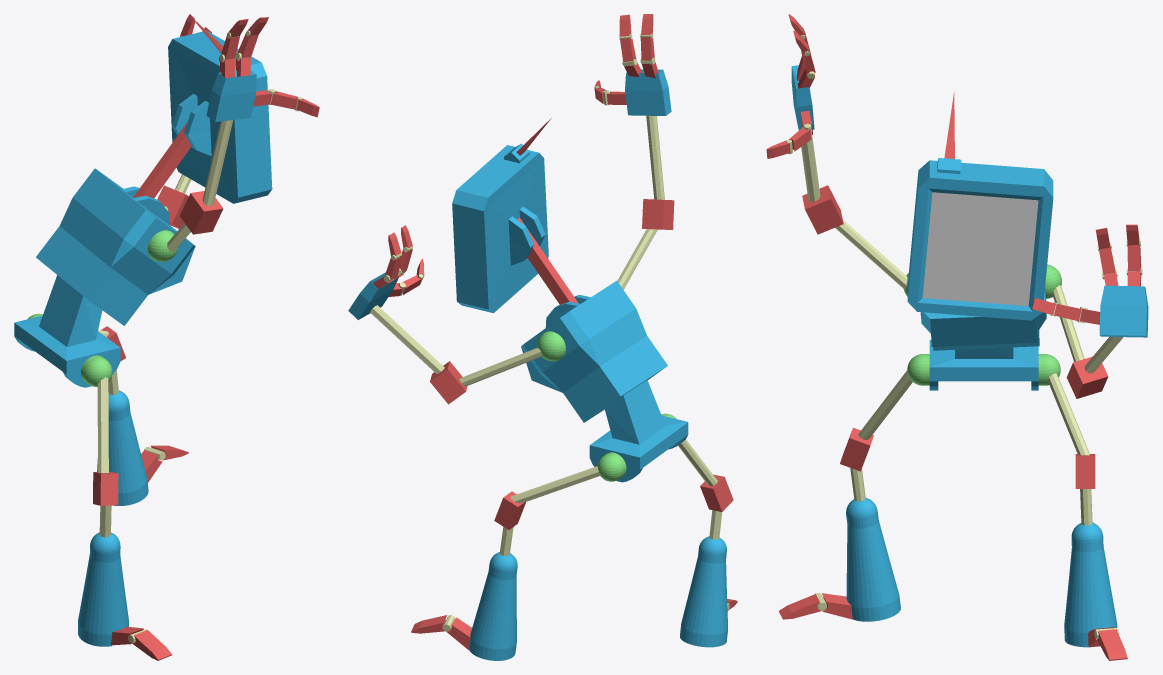
Rendered from Robot.dae.
The picture shows the model from 3 angles, left to right: view 1: azimuth 30°, elevation 25°; view 2: azimuth 150°, elevation 25°; view 3: azimuth 270°, elevation 25°; orthographic projection. The views are drawn at different scales.
Visible parts, largest first — view 1: Chest, Head, Hips.001, Hips.002, Right Elbow, Right Knee.002, Neck, Left Knee\.021, Right upperleg, Left forearm, Left Knee\.019; view 2: Chest, Head, Hips.001, Hips.002, Left forearm, Right Elbow, Right Knee.002, Neck, Left Knee\.019, Right Knee.001, Left upperleg, Left upperarm (+2 smaller); view 3: Head, Chest, Hips.001, Hips.002, Right Knee.001, Right Elbow, Left forearm, Left Knee\.021, Right upperarm, Left upperleg, Right upperleg, Left Knee\.019 (+2 smaller).
Part boxes in pixels (box(x1,y1,x2,y2)): Chest: box(14, 168, 195, 387); Head: box(168, 16, 272, 203); Hips.001: box(78, 471, 128, 646); Hips.002: box(97, 326, 148, 505); Right Elbow: box(180, 120, 233, 234); Right Knee.002: box(206, 70, 256, 122); Neck: box(133, 122, 191, 198); Left Knee\.021: box(111, 626, 171, 660); Right upperleg: box(97, 377, 108, 472); Left forearm: box(157, 174, 191, 228); Left Knee\.019: box(141, 445, 188, 482); Chest: box(521, 280, 688, 482); Head: box(452, 118, 551, 313); Hips.001: box(680, 474, 733, 647); Hips.002: box(469, 491, 525, 660); Left forearm: box(370, 305, 467, 404); Right Elbow: box(642, 115, 674, 229); Right Knee.002: box(625, 69, 671, 115); Neck: box(517, 217, 578, 304); Left Knee\.019: box(411, 615, 471, 649); Right Knee.001: box(348, 272, 398, 319); Left upperleg: box(510, 466, 599, 503); Left upperarm: box(459, 347, 542, 386); Head: box(907, 91, 1053, 320); Chest: box(904, 264, 1061, 390); Hips.001: box(840, 427, 900, 621); Hips.002: box(1064, 454, 1117, 647); Right Knee.001: box(1099, 285, 1148, 337); Right Elbow: box(801, 138, 843, 234); Left forearm: box(1066, 337, 1123, 398); Left Knee\.021: box(779, 593, 852, 619); Right upperarm: box(835, 220, 907, 289); Left upperleg: box(1047, 373, 1089, 455); Right upperleg: box(858, 370, 912, 439); Left Knee\.019: box(1088, 627, 1127, 660).
Bounding box in the file's own units: 4.88 × 5.64 × 10.56.
